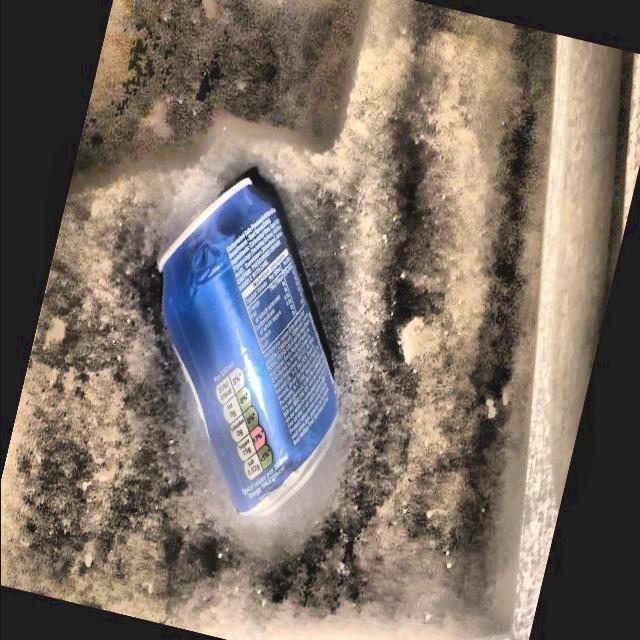pepsi-can: (130, 170, 348, 523)
